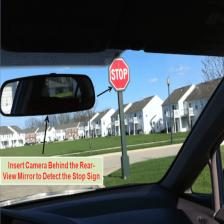Stop-sign: (108, 57, 131, 92)
